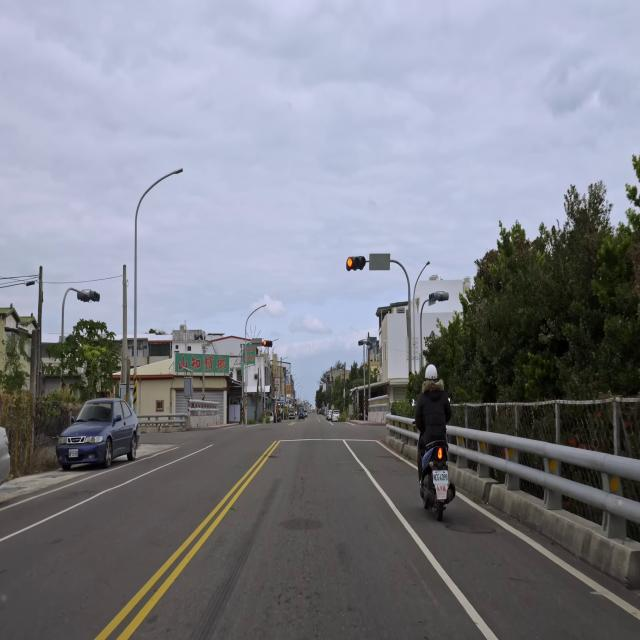red light: (345, 256, 366, 270), (263, 340, 273, 348)
